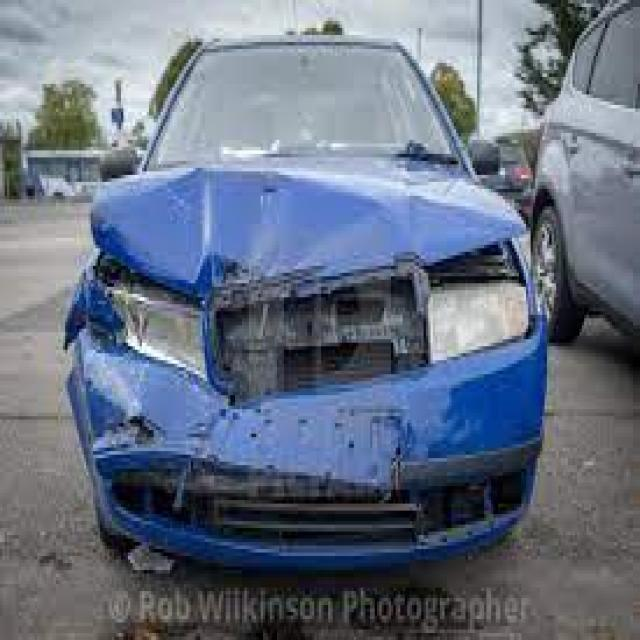damaged: (77, 168, 544, 487)
